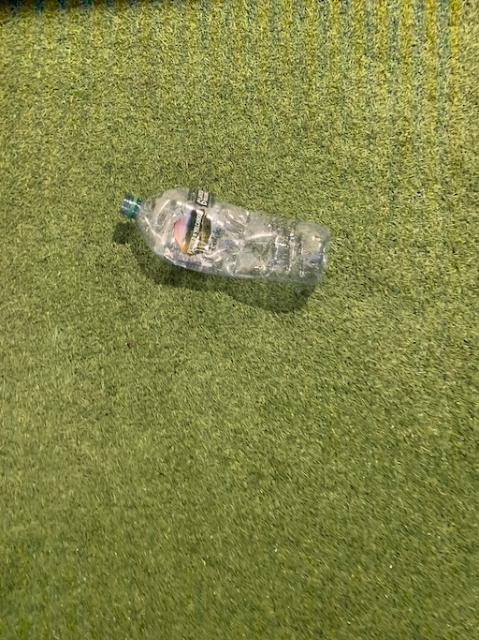plastic: (119, 187, 329, 283)
